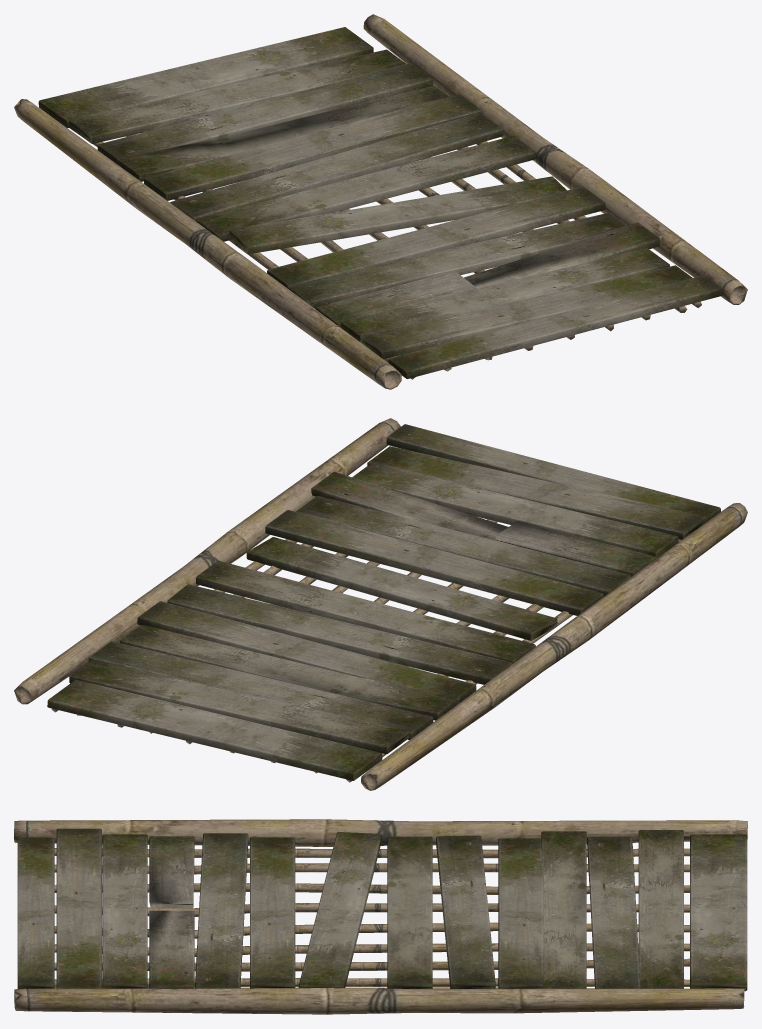
Rendered from jungle_scaffolding_walkway_200x300.glb.
3 views of the same model, one above another, from view 1: azimuth 30°, elevation 25°; view 2: azimuth 150°, elevation 25°; view 3: azimuth 270°, elevation 25° (orthographic).
Visible parts, largest first — view 1: jungle_scaffolding_walkway_200x300; view 2: jungle_scaffolding_walkway_200x300; view 3: jungle_scaffolding_walkway_200x300.
Boxes of the visible parts, x1,y1,x2,y2 form: jungle_scaffolding_walkway_200x300: (14,14,747,389); jungle_scaffolding_walkway_200x300: (14,418,747,790); jungle_scaffolding_walkway_200x300: (14,819,747,1014).
Bounding box in the file's own units: 1.92 × 0.1421 × 3.34.
1 material, 1 textured.
